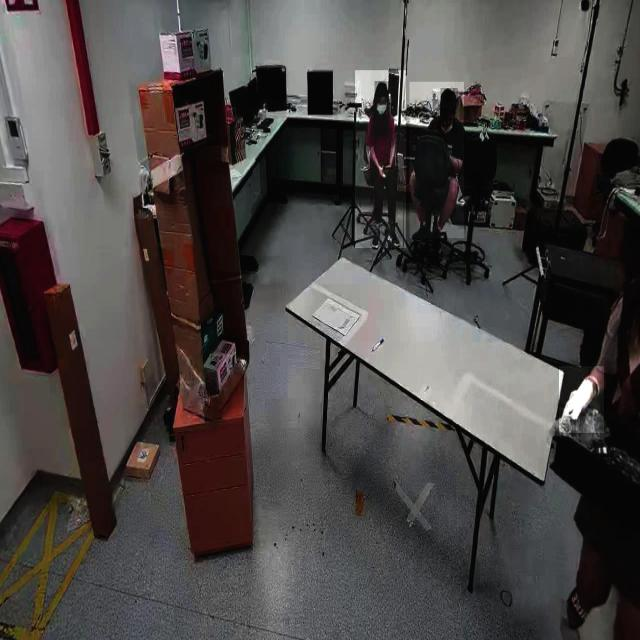face_mask: (373, 86, 391, 115)
face_nomask: (438, 109, 455, 132)
hand_glove: (558, 366, 604, 434)
hand_noglove: (378, 162, 388, 178), (382, 162, 392, 170)
head_nohelmet: (440, 88, 458, 102), (375, 81, 389, 97)
person: (354, 70, 406, 249), (409, 82, 464, 239)
